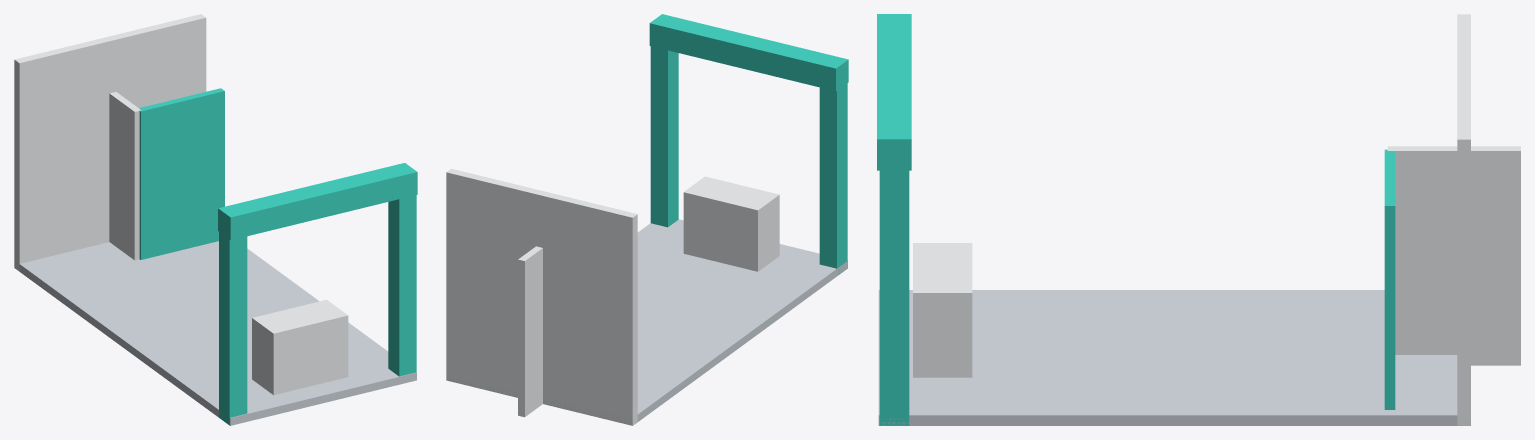
3 views of the same model, side by side, from view 1: azimuth 30°, elevation 25°; view 2: azimuth 150°, elevation 25°; view 3: azimuth 270°, elevation 25° (orthographic). The views are drawn at different scales.
Visible parts, largest first — view 1: Exhibition Booth Concept; view 2: Exhibition Booth Concept; view 3: Exhibition Booth Concept.
Boxes of the visible parts, x1,y1,x2,y2 form: Exhibition Booth Concept: [14, 14, 417, 425]; Exhibition Booth Concept: [446, 14, 848, 425]; Exhibition Booth Concept: [877, 14, 1520, 425].
Size of the model in its own units: 3 by 3.2 by 6.52.
